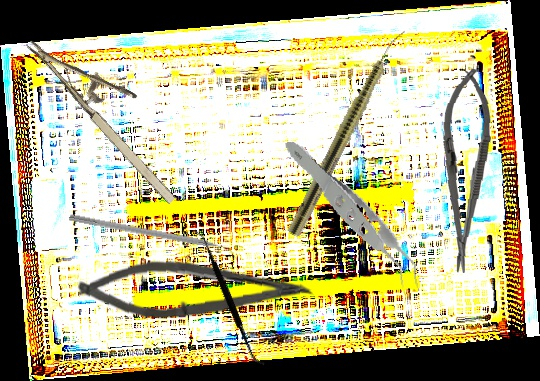Chopper: (67, 213, 240, 263)
Handpiece: (285, 22, 409, 240)
Micro Scissor: (75, 251, 315, 324)
Needle Holder: (25, 10, 204, 210), (434, 66, 495, 275)
Spatula Surgical: (152, 227, 307, 367)
Tissue Forceps: (282, 121, 423, 315)
